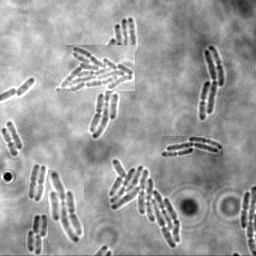Dividing: (1, 128, 18, 157), (34, 166, 47, 202), (28, 164, 39, 200), (239, 192, 249, 229)
Microcolony: (109, 158, 180, 249), (54, 45, 135, 91), (48, 170, 84, 243), (199, 45, 224, 121), (101, 18, 136, 61), (88, 92, 119, 139), (161, 136, 223, 157), (27, 214, 48, 255)
Rod: (5, 121, 23, 150), (16, 78, 34, 99)
